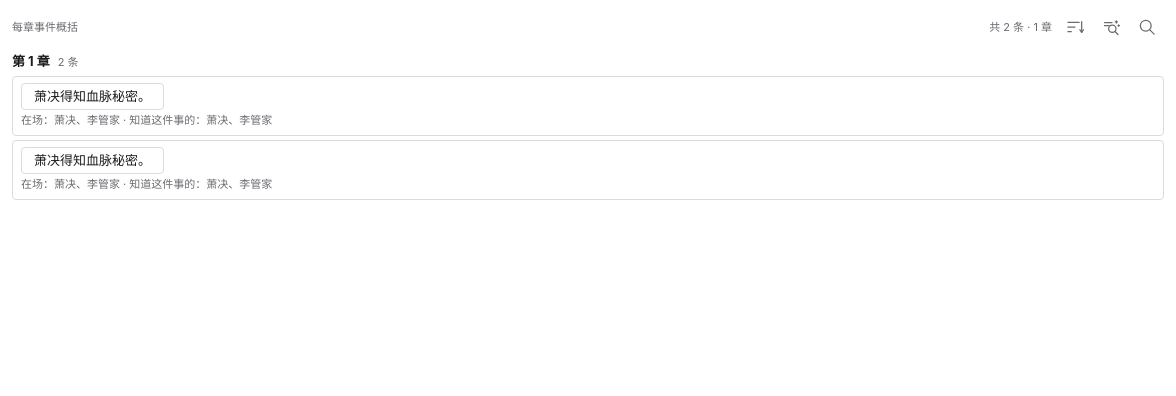
已确认的情节：谁在场、谁知道了 › 勾选框里就是**现在的名单** —— 勾上的那些等于「改完之后是这些人」
Click the 1st button "萧决得知血脉秘密。" at (92, 96), box [21,82,164,110]
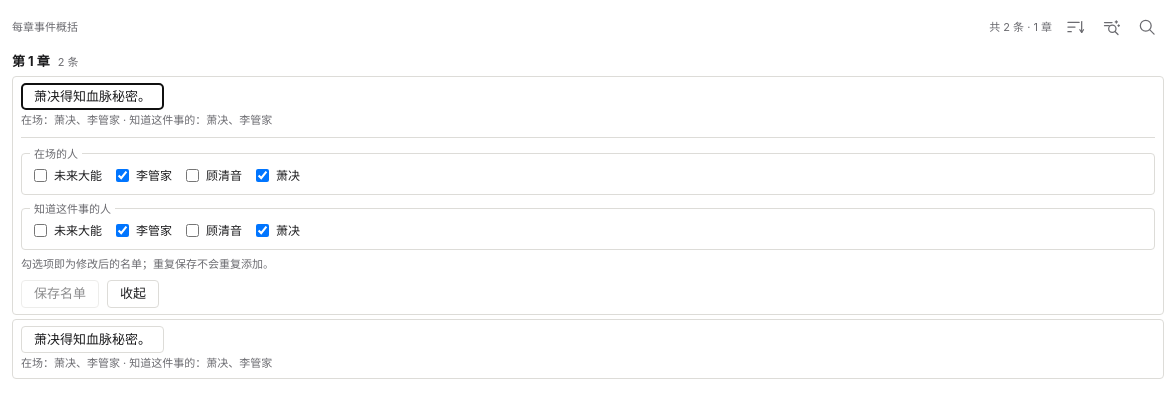
Expected: the checkbox labelled "萧决" below "知道这件事的人" is checked, [256,224,269,237]
Expected: the checkbox labelled "李管家" below "知道这件事的人" is checked, [116,224,129,237]
Expected: the checkbox labelled "未来大能" below "知道这件事的人" is not checked, [34,224,47,237]
